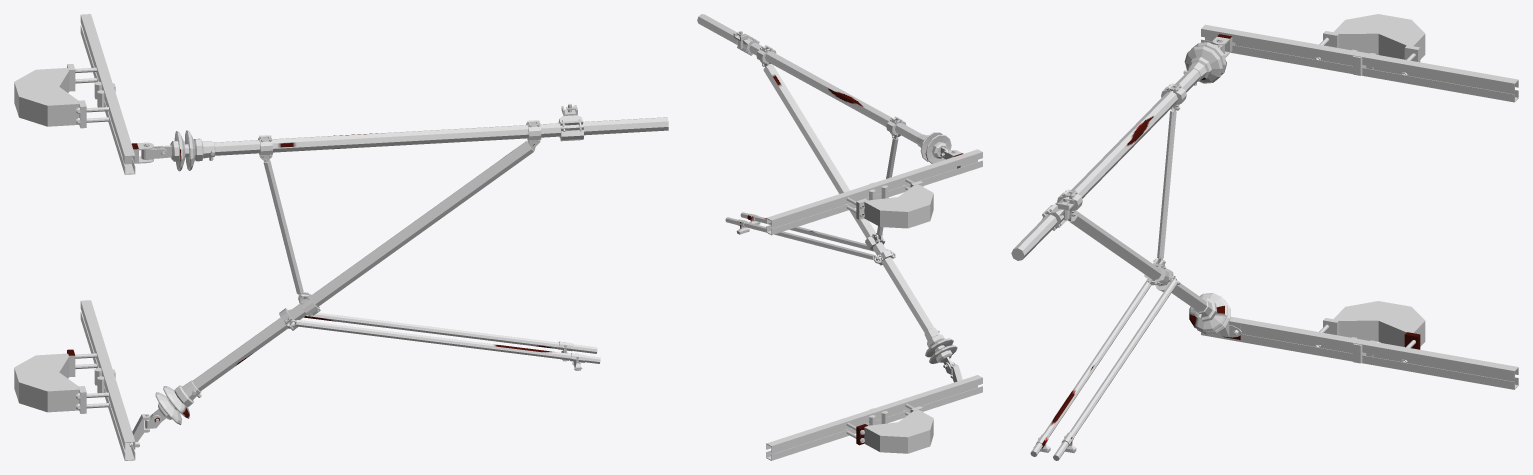
File: Bracket8a68.obj
The picture shows the model from 3 angles, left to right: view 1: azimuth 30°, elevation 25°; view 2: azimuth 150°, elevation 25°; view 3: azimuth 270°, elevation 25°; orthographic projection. The views are drawn at different scales.
Parts seen in each view (by area): view 1: obj2, obj1, obj4, obj8, obj7; view 2: obj2, obj1, obj4, obj7, obj3, obj8; view 3: obj2, obj4, obj1, obj7, obj3, obj8.
Boxes of the visible parts, x1,y1,x2,y2 form: obj2: (122, 103, 668, 449); obj1: (14, 64, 108, 402); obj4: (80, 14, 135, 174); obj8: (14, 78, 111, 413); obj7: (80, 300, 135, 449); obj2: (697, 14, 969, 382); obj1: (846, 178, 933, 445); obj4: (766, 149, 982, 235); obj7: (766, 375, 982, 452); obj3: (766, 385, 982, 460); obj8: (844, 185, 933, 453); obj2: (1011, 34, 1241, 460); obj4: (1201, 24, 1518, 102); obj1: (1319, 14, 1425, 356); obj7: (1228, 316, 1518, 378); obj3: (1201, 331, 1518, 389); obj8: (1314, 44, 1425, 362).
Bounding box in the file's own units: 1.92 × 1.23 × 1.78.
Materials: 1 (1 with a texture image).
